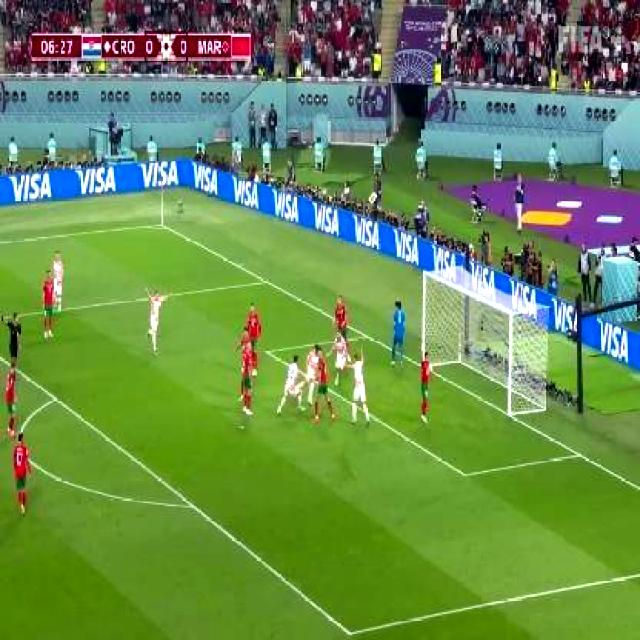bigarea_bottom_inner: (337, 615, 361, 640)
bigarea_top_outter: (257, 269, 274, 291)
bottom_arc_area_intersection: (182, 491, 202, 520)
corner: (151, 215, 169, 232)
smallarea_bottom_inner: (452, 457, 476, 491)
smallarea_bottom_outter: (568, 440, 588, 466)
smallarea_top_inner: (258, 340, 276, 362)
smallarea_top_outter: (355, 325, 374, 346)
top_arc_area_intersection: (45, 386, 63, 409)
